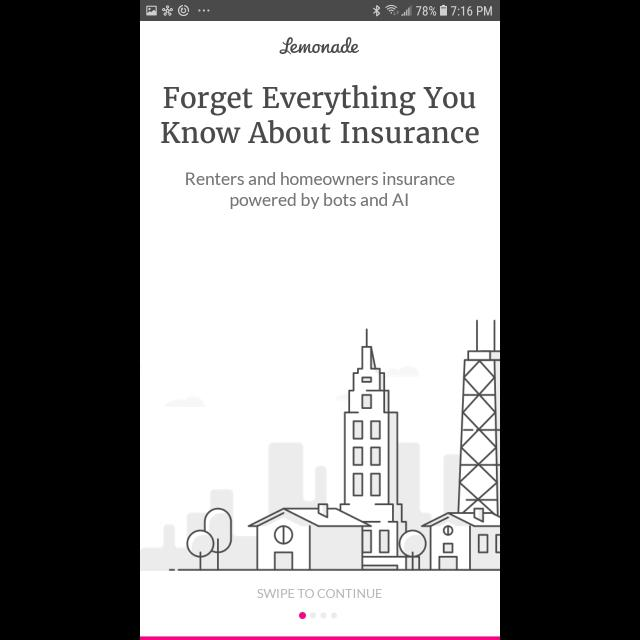image: (140, 320, 500, 570), (280, 37, 360, 55)
pageindicator: (298, 612, 338, 620)
text: (161, 88, 479, 144), (186, 172, 454, 210), (258, 589, 382, 599)
uppertaskbar: (140, 1, 500, 22)
